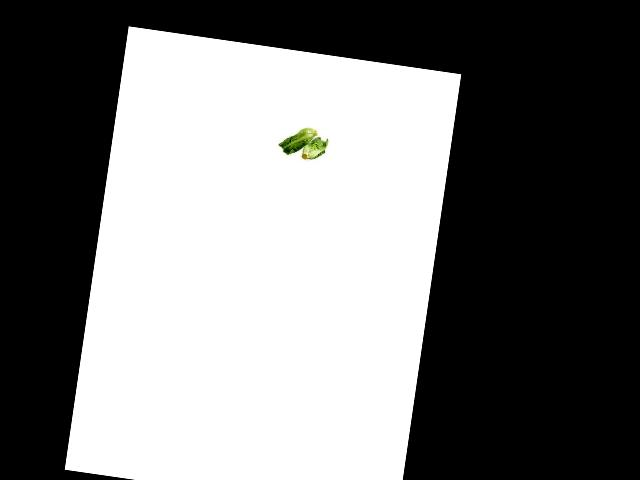lettuce: (278, 123, 331, 168)
